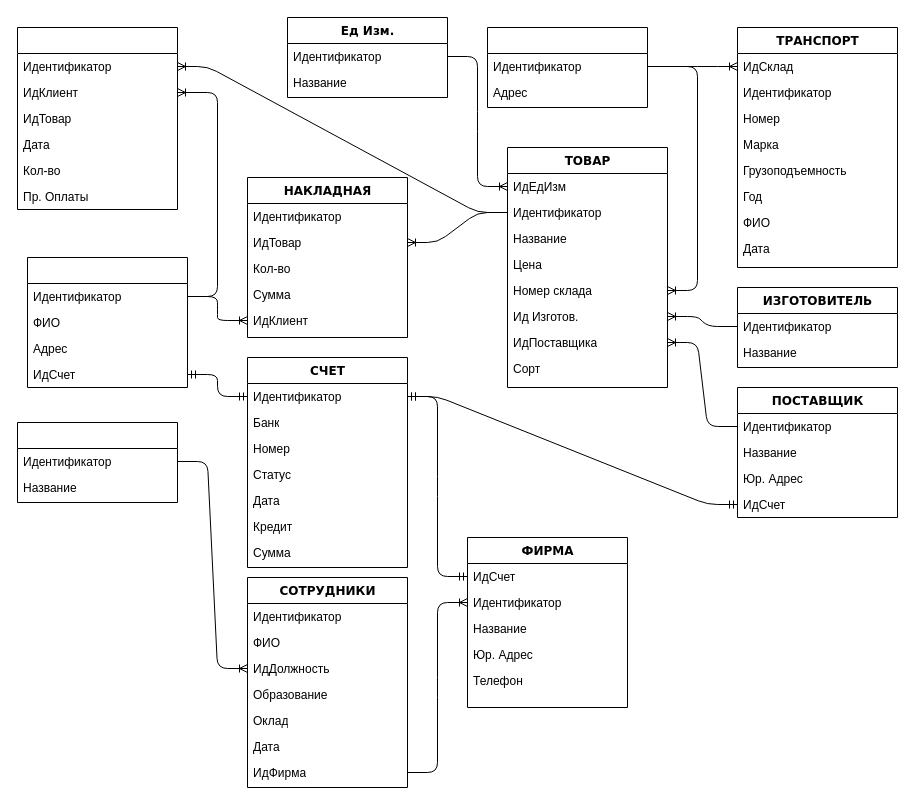
The diagram is 915 pixels wide and 806 high, and some of its shapes have lost their labels. Here are the shapes that lost their labels. From the top down, the box of each, then its label:
(486, 26, 648, 108): СКЛАД
(16, 26, 178, 210): ЗАКАЗ
(26, 256, 188, 388): КЛИЕНТ
(16, 422, 178, 502): ДОЛЖНОСТЬ
